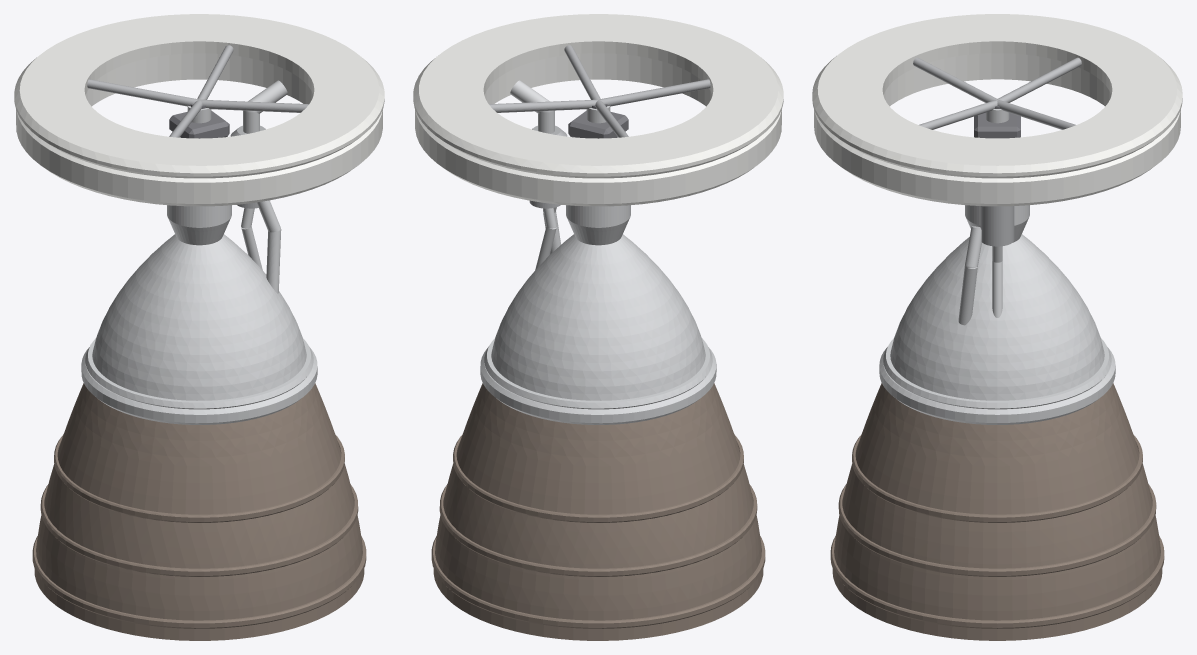
Rendered from ax_prop_06_kite_vac.glb.
3 renders of one model, left to right at view 1: azimuth 30°, elevation 25°; view 2: azimuth 150°, elevation 25°; view 3: azimuth 270°, elevation 25°, orthographic.
Parts seen in each view (by area): view 1: nozzle_extension, mount_ring, regen_nozzle, thermal_blanket_ring, extension_hoops, joint_flange, thrust_struts, plumbing, regen_manifold, chamber, gimbal; view 2: nozzle_extension, mount_ring, regen_nozzle, thermal_blanket_ring, extension_hoops, joint_flange, thrust_struts, regen_manifold, chamber, plumbing, gimbal; view 3: nozzle_extension, mount_ring, regen_nozzle, thermal_blanket_ring, extension_hoops, joint_flange, thrust_struts, regen_manifold, plumbing, turbopumps, gimbal, chamber.
Boxes of the visible parts, <box> form: nozzle_extension: <box>34,383,364,640</box>; mount_ring: <box>14,14,384,178</box>; regen_nozzle: <box>92,234,306,400</box>; thermal_blanket_ring: <box>16,53,382,206</box>; extension_hoops: <box>32,434,366,628</box>; joint_flange: <box>81,348,317,424</box>; thrust_struts: <box>87,45,308,137</box>; plumbing: <box>241,80,287,293</box>; regen_manifold: <box>85,338,313,409</box>; chamber: <box>167,205,231,245</box>; gimbal: <box>169,104,229,138</box>; nozzle_extension: <box>433,383,763,640</box>; mount_ring: <box>413,14,783,178</box>; regen_nozzle: <box>491,234,705,400</box>; thermal_blanket_ring: <box>415,53,781,206</box>; extension_hoops: <box>431,434,765,628</box>; joint_flange: <box>480,348,716,424</box>; thrust_struts: <box>489,45,710,137</box>; regen_manifold: <box>484,338,712,409</box>; chamber: <box>566,205,630,245</box>; plumbing: <box>510,80,560,270</box>; gimbal: <box>568,104,628,138</box>; nozzle_extension: <box>832,383,1162,640</box>; mount_ring: <box>812,14,1182,178</box>; regen_nozzle: <box>890,234,1104,400</box>; thermal_blanket_ring: <box>814,53,1180,206</box>; extension_hoops: <box>830,435,1164,628</box>; joint_flange: <box>879,348,1115,424</box>; thrust_struts: <box>913,57,1081,129</box>; regen_manifold: <box>883,338,1111,409</box>; plumbing: <box>958,226,1002,325</box>; turbopumps: <box>980,206,1014,246</box>; gimbal: <box>974,105,1020,138</box>; chamber: <box>965,205,1029,242</box>.
Bounding box in the file's own units: 1.25 × 1.79 × 1.25.
